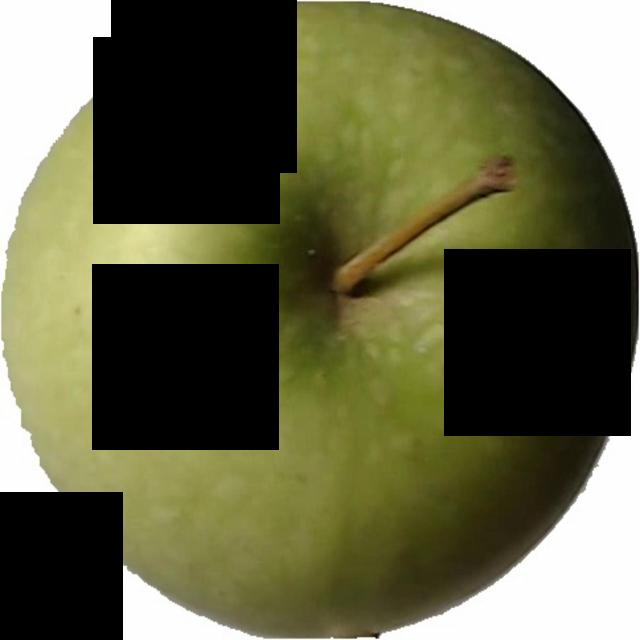apple: (5, 0, 639, 629)
